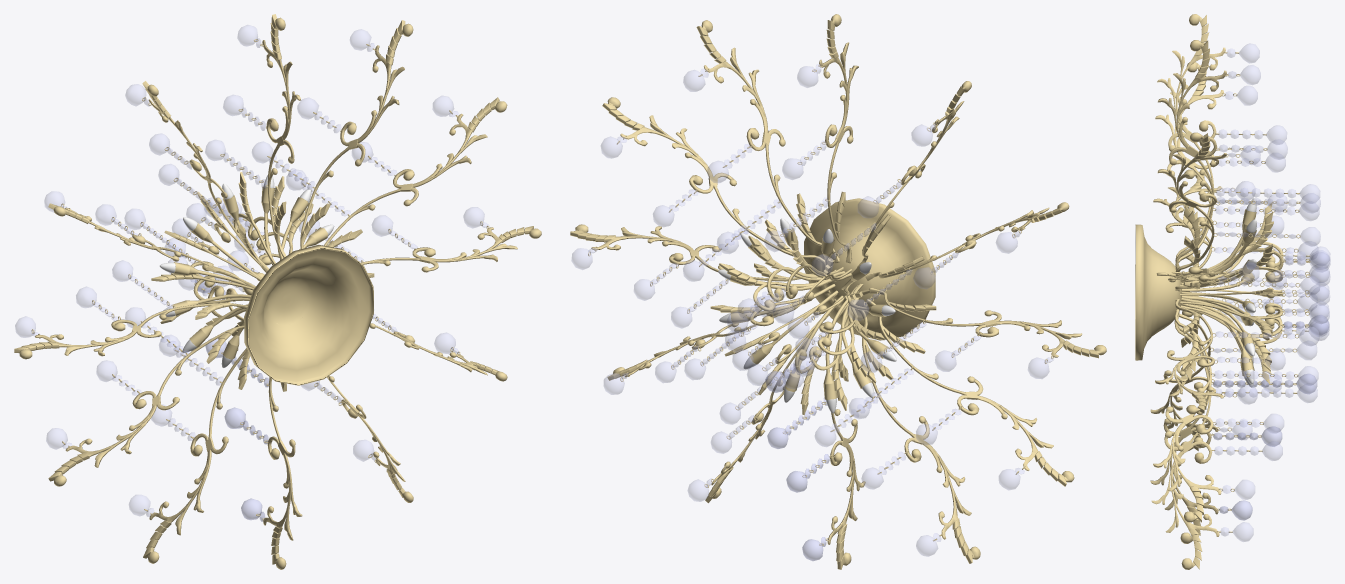
File: chandelier.glb
3 renders of one model, left to right at view 1: azimuth 30°, elevation 25°; view 2: azimuth 150°, elevation 25°; view 3: azimuth 270°, elevation 25°, orthographic. The views are drawn at different scales.
Parts seen in each view (by area): view 1: Rectangle0, Torus008, Torus013, Torus009, Torus014, Torus012, Torus007, Torus010, Torus011, Torus006, cristal, Object015 (+15 smaller); view 2: Rectangle0, Torus014, Torus013, Torus007, Torus008, Torus009, Torus012, Torus006, Torus015, Torus005, Torus004, Torus010 (+14 smaller); view 3: Rectangle0, Torus005, Torus009, Torus006, Torus008, Torus010, Torus004, Object006, cristal, Object005, Object010, Torus014 (+15 smaller).
Part boxes in pixels (bbox=[...]): Rectangle0: bbox=[244, 245, 373, 385]; Torus008: bbox=[242, 20, 413, 260]; Torus013: bbox=[48, 276, 251, 486]; Torus009: bbox=[218, 14, 300, 265]; Torus014: bbox=[143, 283, 278, 563]; Torus012: bbox=[14, 251, 253, 359]; Torus007: bbox=[247, 97, 507, 254]; Torus010: bbox=[142, 81, 268, 272]; Torus011: bbox=[48, 203, 261, 288]; Torus006: bbox=[250, 221, 541, 277]; cristal: bbox=[125, 84, 219, 229]; Object015: bbox=[129, 279, 223, 516]; Rectangle0: bbox=[804, 198, 935, 340]; Torus014: bbox=[797, 299, 980, 563]; Torus013: bbox=[809, 291, 1074, 486]; Torus007: bbox=[602, 97, 832, 317]; Torus008: bbox=[696, 20, 839, 305]; Torus009: bbox=[770, 14, 858, 302]; Torus012: bbox=[811, 283, 1106, 363]; Torus006: bbox=[570, 224, 835, 336]; Torus015: bbox=[780, 300, 865, 569]; Torus005: bbox=[607, 290, 838, 381]; Torus004: bbox=[704, 295, 843, 503]; Torus010: bbox=[789, 81, 971, 309]; Rectangle0: bbox=[1135, 224, 1181, 360]; Torus005: bbox=[1153, 303, 1309, 522]; Torus009: bbox=[1157, 40, 1310, 282]; Torus006: bbox=[1155, 298, 1309, 414]; Torus008: bbox=[1157, 132, 1310, 286]; Torus010: bbox=[1157, 14, 1310, 277]; Torus004: bbox=[1151, 310, 1308, 569]; Object006: bbox=[1214, 318, 1329, 499]; cristal: bbox=[1216, 43, 1330, 265]; Object005: bbox=[1214, 323, 1328, 541]; Object010: bbox=[1217, 65, 1330, 272]; Torus014: bbox=[1150, 295, 1309, 451].
Size of the model in its own units: 1770 by 1770 by 620.
